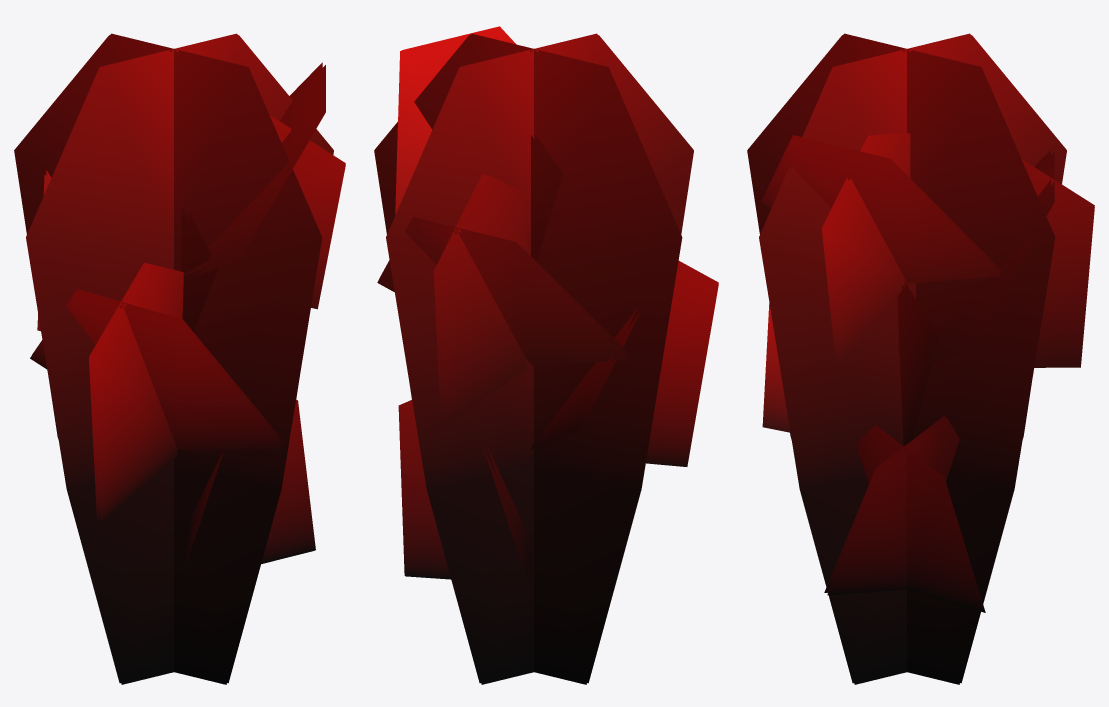
Rendered from TinyW13_AFS_high.FBX.
The picture shows the model from 3 angles, left to right: view 1: azimuth 30°, elevation 25°; view 2: azimuth 150°, elevation 25°; view 3: azimuth 270°, elevation 25°; orthographic projection.
Visible parts, largest first — view 1: TinyW13_AFS_high; view 2: TinyW13_AFS_high; view 3: TinyW13_AFS_high.
Part boxes in pixels (x1,y1,x2,y2): TinyW13_AFS_high: [14, 33, 345, 684]; TinyW13_AFS_high: [374, 26, 718, 684]; TinyW13_AFS_high: [747, 33, 1094, 684].
Size of the model in its own units: 0.33 by 0.64 by 0.3247.
